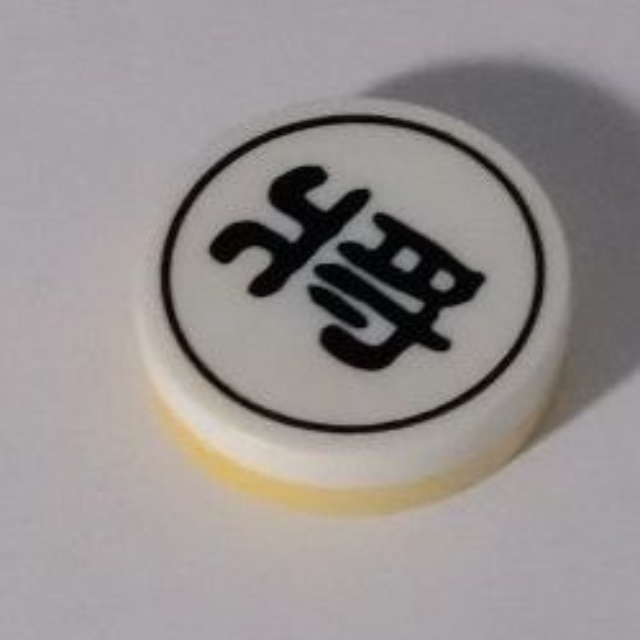black_tuong: (129, 95, 583, 510)
